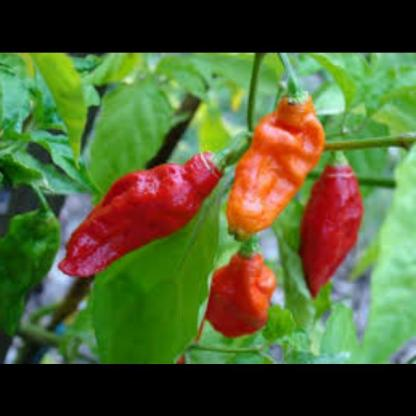hot pepper: (57, 144, 230, 277), (219, 86, 326, 234), (293, 148, 365, 298), (198, 239, 284, 338)
